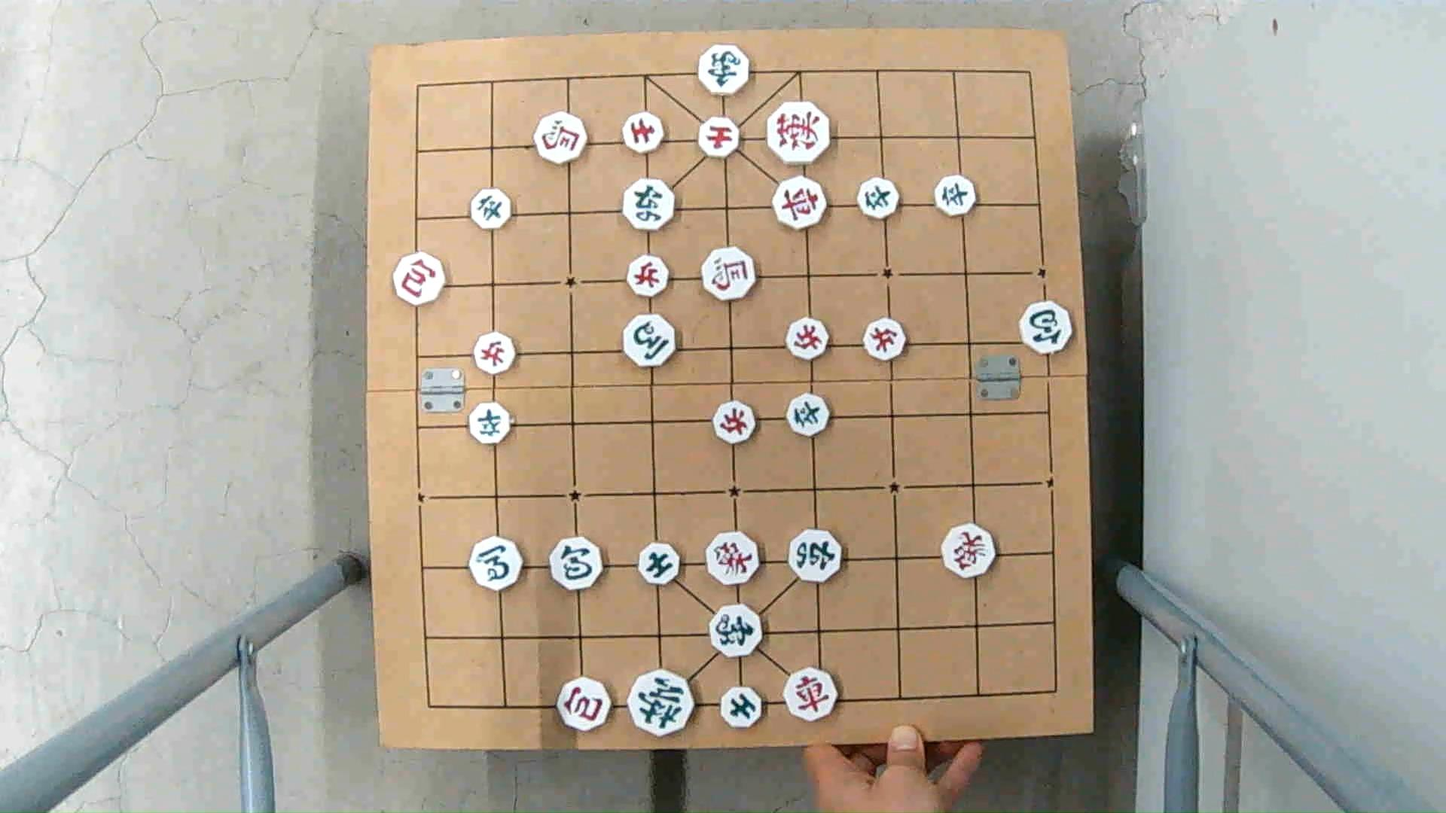cha_green: (623, 180, 679, 231), (788, 531, 843, 581)
cha_red: (783, 668, 840, 718), (773, 181, 828, 230)
jol_green: (786, 392, 834, 435), (935, 175, 979, 217), (468, 406, 513, 445), (469, 191, 513, 229), (857, 180, 901, 217)
jol_red: (785, 315, 834, 360), (859, 318, 907, 362), (712, 405, 758, 445), (472, 336, 520, 373), (627, 257, 670, 296)
ma_green: (468, 540, 523, 590), (622, 318, 677, 367)
ma_red: (532, 114, 587, 163), (704, 251, 758, 298)
po_green: (1017, 303, 1072, 352), (548, 540, 606, 586)
po_red: (554, 680, 614, 729), (390, 254, 445, 303)
sa_green: (635, 544, 684, 583), (718, 687, 763, 726)
sa_red: (621, 114, 665, 155), (697, 119, 743, 157)
sang_green: (708, 607, 767, 654), (700, 44, 750, 96)
sang_red: (705, 535, 762, 585), (941, 525, 996, 575)
wang_green: (626, 672, 696, 731)
wang_red: (769, 101, 831, 163)
